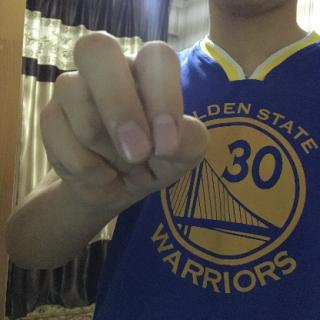QAAF: (31, 27, 216, 209)
